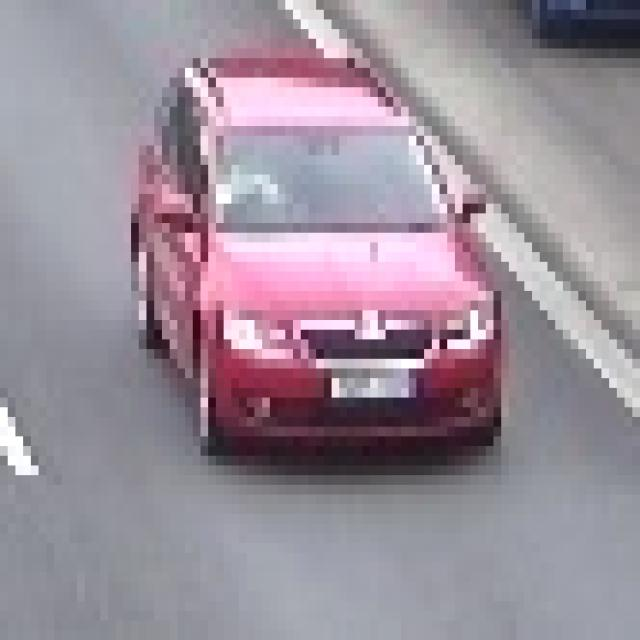red: (138, 52, 501, 454)
